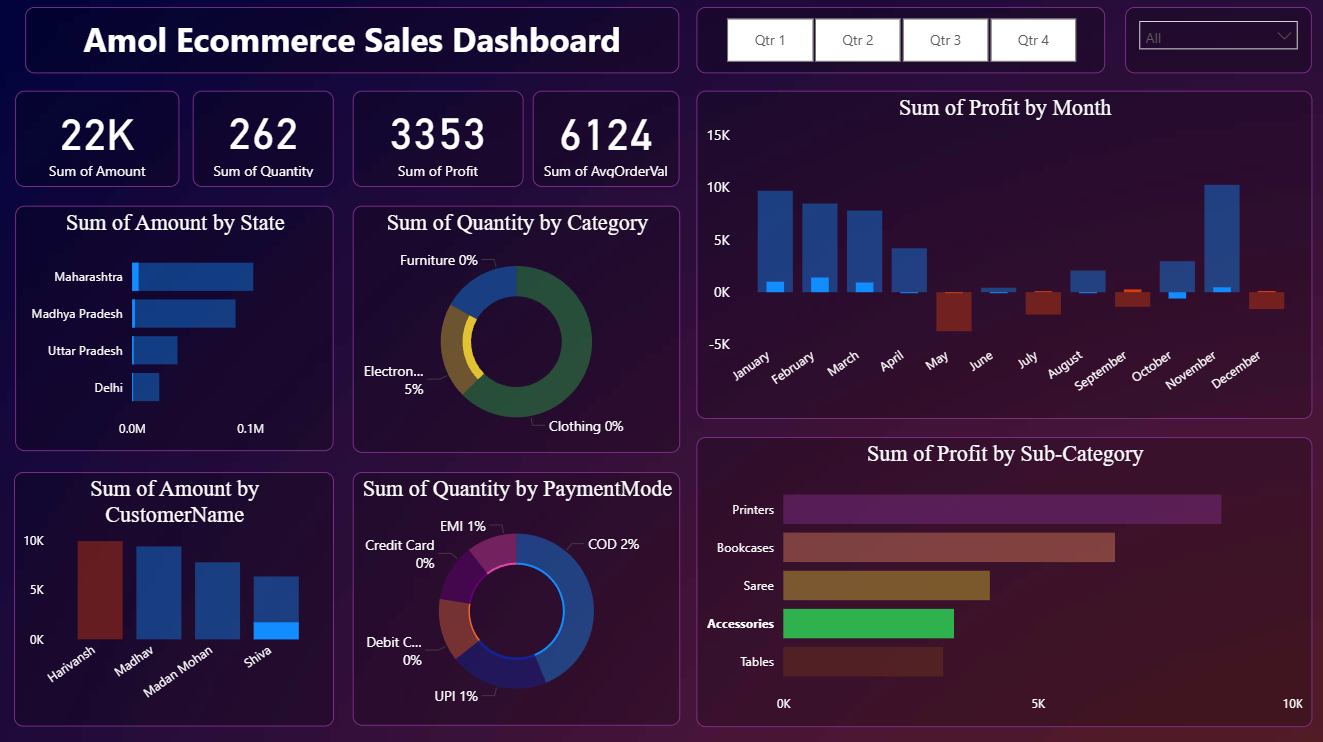

The page's visual inventory and layout, read from the dashboard file:
{"tool":"powerbi","page":{"name":"Page 1","canvas":[1280,720],"ordinal":0},"visuals":[{"type":"textbox","box":[25.7,10,631.4,64.3],"z":0},{"type":"columnChart","fields":{"Category":["Orders.Order Date.Variation.Date Hierarchy.Month"],"Y":["Sum(Details.Profit)"]},"box":[672.9,90,594.3,317.1],"z":1000},{"type":"barChart","fields":{"Category":["Details.Sub-Category"],"Y":["Sum(Details.Profit)"]},"box":[672.9,424.3,594.3,280],"z":2001},{"type":"donutChart","fields":{"Category":["Details.Category"],"Y":["Sum(Details.Quantity)"]},"box":[341.2,201.2,316.2,238.8],"z":2002},{"type":"donutChart","fields":{"Y":["Sum(Details.Quantity)"],"Category":["Details.PaymentMode"]},"box":[341.2,458.8,316.2,245],"z":2003},{"type":"card","fields":{"Values":["Sum(Details.Amount)"]},"box":[15.7,90,158.6,92.9],"z":2004},{"type":"card","fields":{"Values":["Sum(Details.Quantity)"]},"box":[187.5,90,136.2,92.5],"z":2005},{"type":"card","fields":{"Values":["Sum(Details.Profit)"]},"box":[341.2,90,165,92.5],"z":2006},{"type":"card","fields":{"Values":["Sum(Details.AvgOrderVal)"]},"box":[515.7,90,141.4,92.9],"z":2007},{"type":"barChart","fields":{"Category":["Orders.State"],"Y":["Sum(Details.Amount)"]},"box":[15.7,201.4,307.1,237.1],"z":2008},{"type":"columnChart","fields":{"Category":["Orders.CustomerName"],"Y":["Sum(Details.Amount)"]},"box":[14.3,458.6,308.6,245.7],"z":2009},{"type":"slicer","fields":{"Values":["Orders.Order Date.Variation.Date Hierarchy.Quarter"]},"box":[672.9,10,394.3,64.3],"z":2010},{"type":"slicer","fields":{"Values":["Orders.State"]},"box":[1087.1,10,180,64.3],"z":2011}]}

Visuals, with their boxes in screenshot pixels (x1, y1, x2, y2), scaled from the page's 1280x720 canvas onto the 1323x742 screenshot:
textbox: pyautogui.locateOnScreen(27, 10, 679, 77)
columnChart - Orders.Order Date.Variation.Date Hierarchy.Month x Sum(Details.Profit): pyautogui.locateOnScreen(696, 93, 1310, 420)
barChart - Details.Sub-Category x Sum(Details.Profit): pyautogui.locateOnScreen(696, 437, 1310, 726)
donutChart - Details.Category x Sum(Details.Quantity): pyautogui.locateOnScreen(353, 207, 679, 453)
donutChart - Sum(Details.Quantity) x Details.PaymentMode: pyautogui.locateOnScreen(353, 473, 679, 725)
card - Sum(Details.Amount): pyautogui.locateOnScreen(16, 93, 180, 188)
card - Sum(Details.Quantity): pyautogui.locateOnScreen(194, 93, 335, 188)
card - Sum(Details.Profit): pyautogui.locateOnScreen(353, 93, 523, 188)
card - Sum(Details.AvgOrderVal): pyautogui.locateOnScreen(533, 93, 679, 188)
barChart - Orders.State x Sum(Details.Amount): pyautogui.locateOnScreen(16, 208, 334, 452)
columnChart - Orders.CustomerName x Sum(Details.Amount): pyautogui.locateOnScreen(15, 473, 334, 726)
slicer - Orders.Order Date.Variation.Date Hierarchy.Quarter: pyautogui.locateOnScreen(696, 10, 1103, 77)
slicer - Orders.State: pyautogui.locateOnScreen(1124, 10, 1310, 77)
